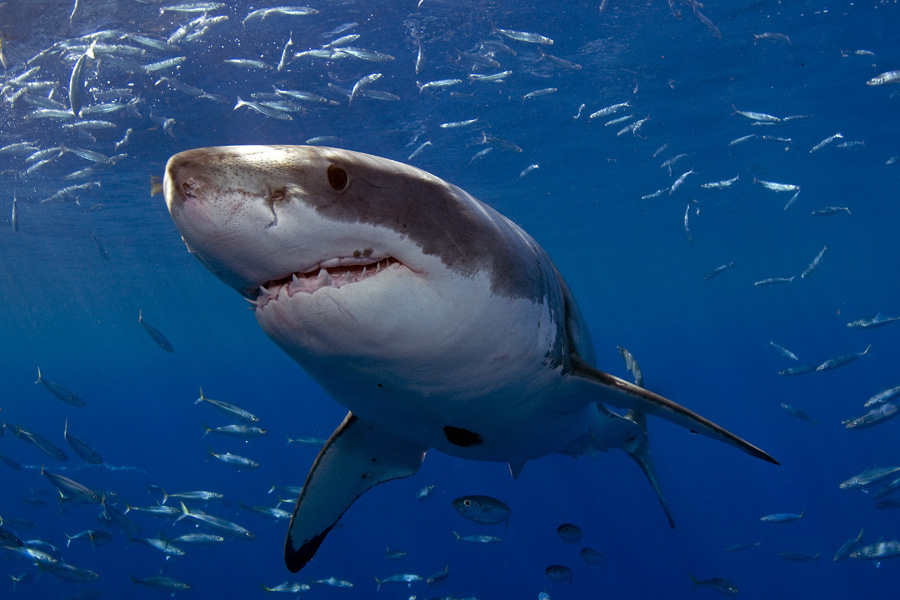Carcharodon_carcharias: (156, 122, 769, 578)
